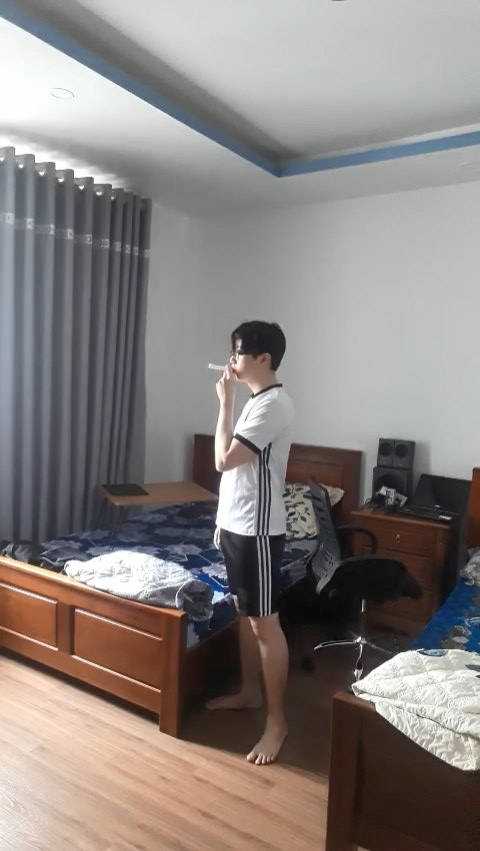cigarette: (206, 362, 227, 372)
person: (193, 300, 311, 777)
